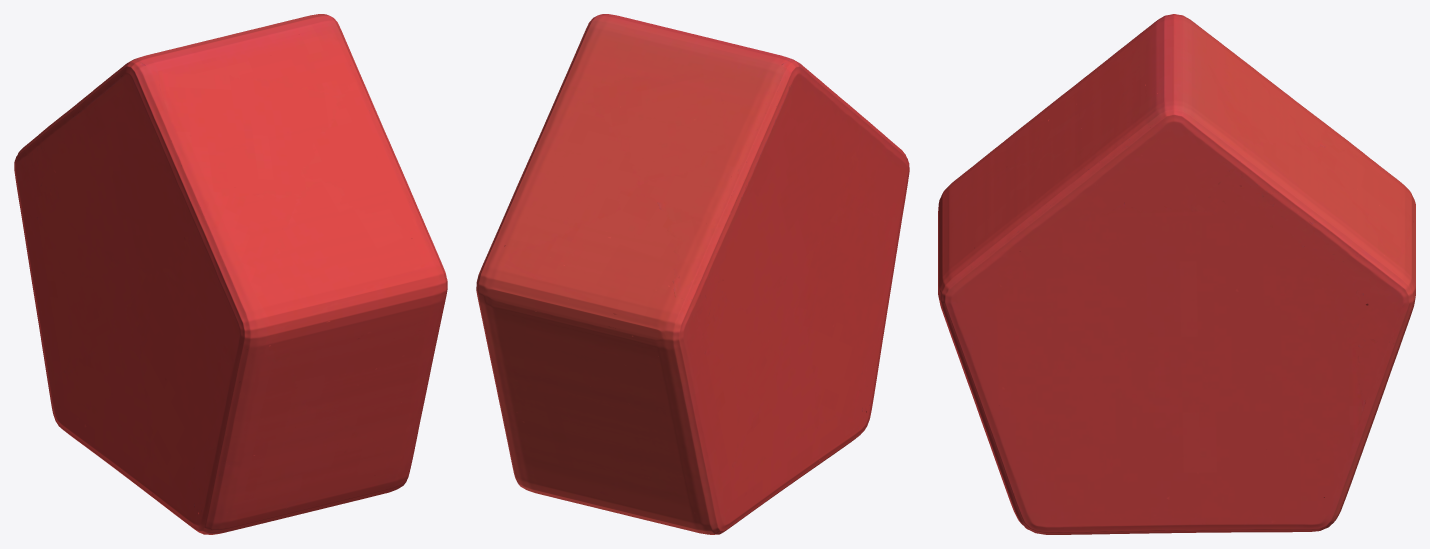
File: pentagono3d2.glb
The picture shows the model from 3 angles, left to right: view 1: azimuth 30°, elevation 25°; view 2: azimuth 150°, elevation 25°; view 3: azimuth 270°, elevation 25°; orthographic projection.
Parts seen in each view (by area): view 1: Object_4; view 2: Object_4; view 3: Object_4.
Boxes of the visible parts, <box> form: Object_4: <box>14,14,447,534</box>; Object_4: <box>476,14,909,534</box>; Object_4: <box>938,14,1415,534</box>.
Bounding box in the file's own units: 0.4867 × 0.964 × 0.9703.
Materials: 1 (1 with a texture image).
